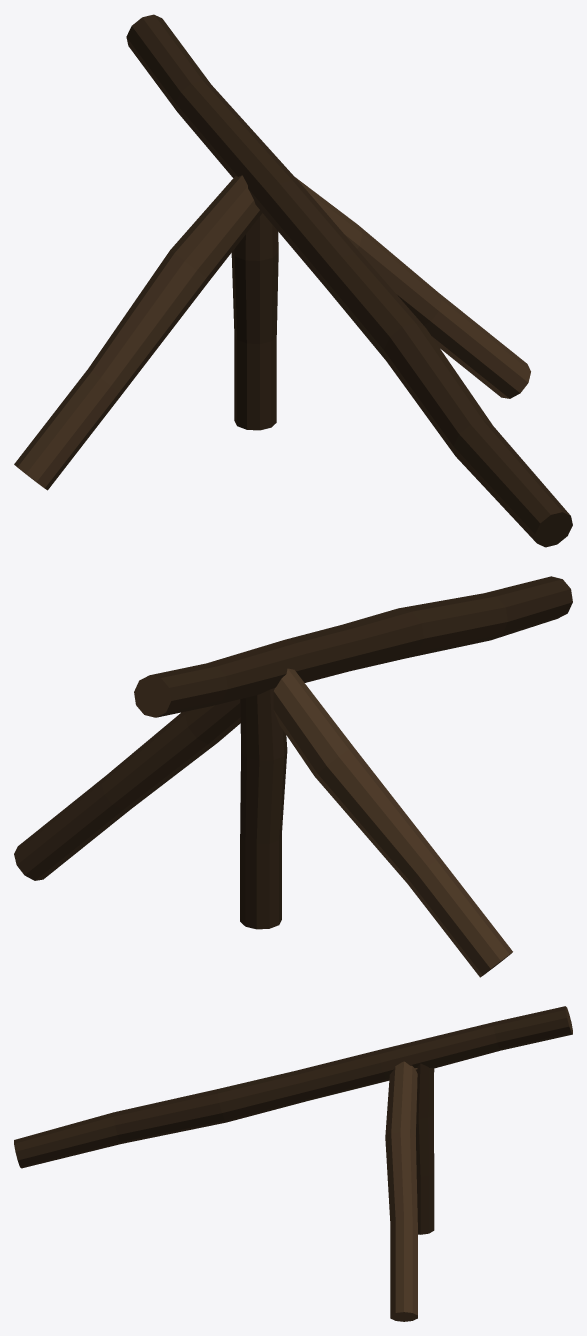
The model's file is Obstakel3.fbx.
3 renders of one model, top to bottom at view 1: azimuth 30°, elevation 25°; view 2: azimuth 150°, elevation 25°; view 3: azimuth 270°, elevation 25°, orthographic. The views are drawn at different scales.
Parts seen in each view (by area): view 1: pCylinder5; view 2: pCylinder5; view 3: pCylinder5.
Boxes of the visible parts, x1=… form: pCylinder5: x1=14, y1=14, x2=572, y2=547; pCylinder5: x1=14, y1=576, x2=572, y2=977; pCylinder5: x1=14, y1=1006, x2=572, y2=1321.
Size of the model in its own units: 18.53 by 12.31 by 26.31.
